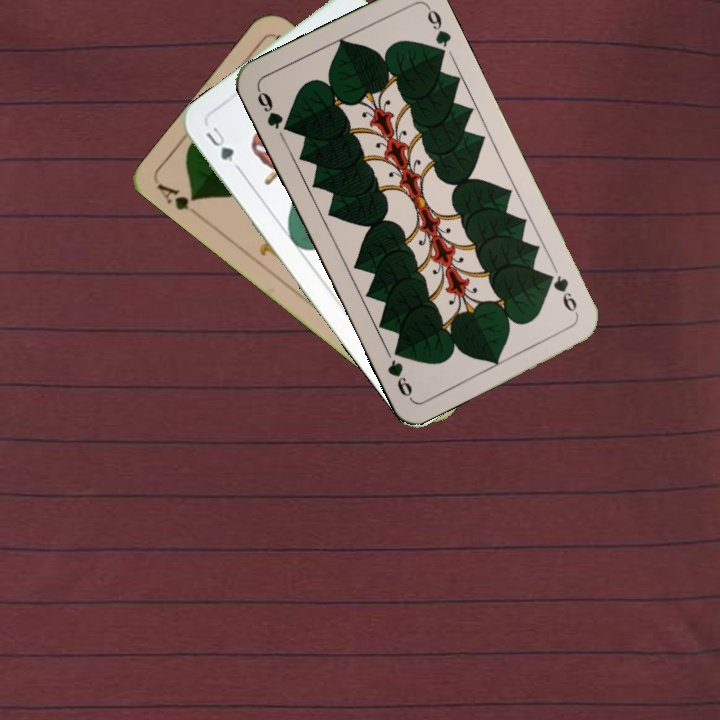G9: (253, 85, 295, 135), (542, 268, 581, 319)
GA: (153, 180, 200, 213)
GU: (201, 122, 237, 165)
